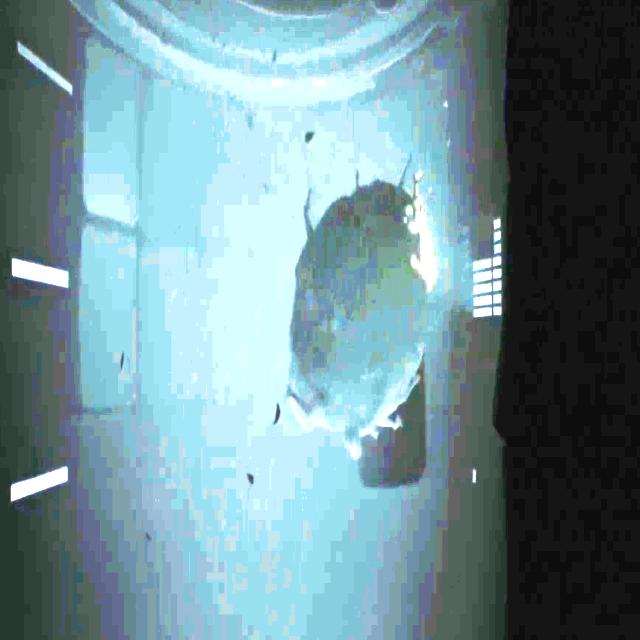blob: (288, 153, 437, 462)
